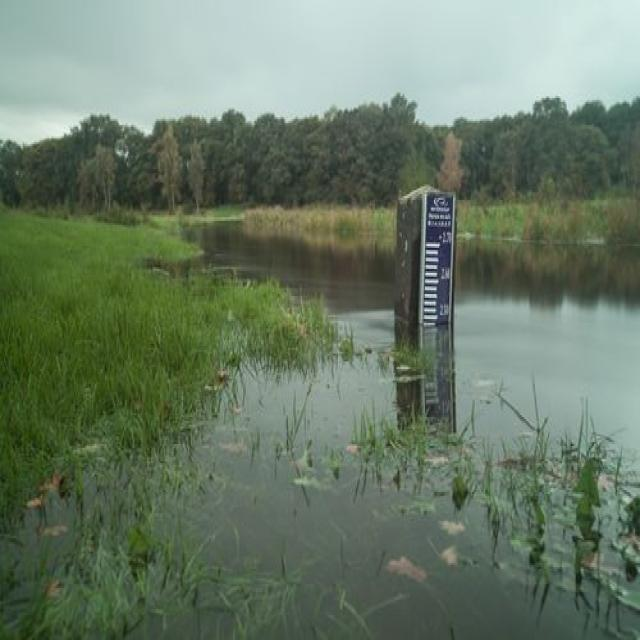staff: (419, 188, 458, 330)
